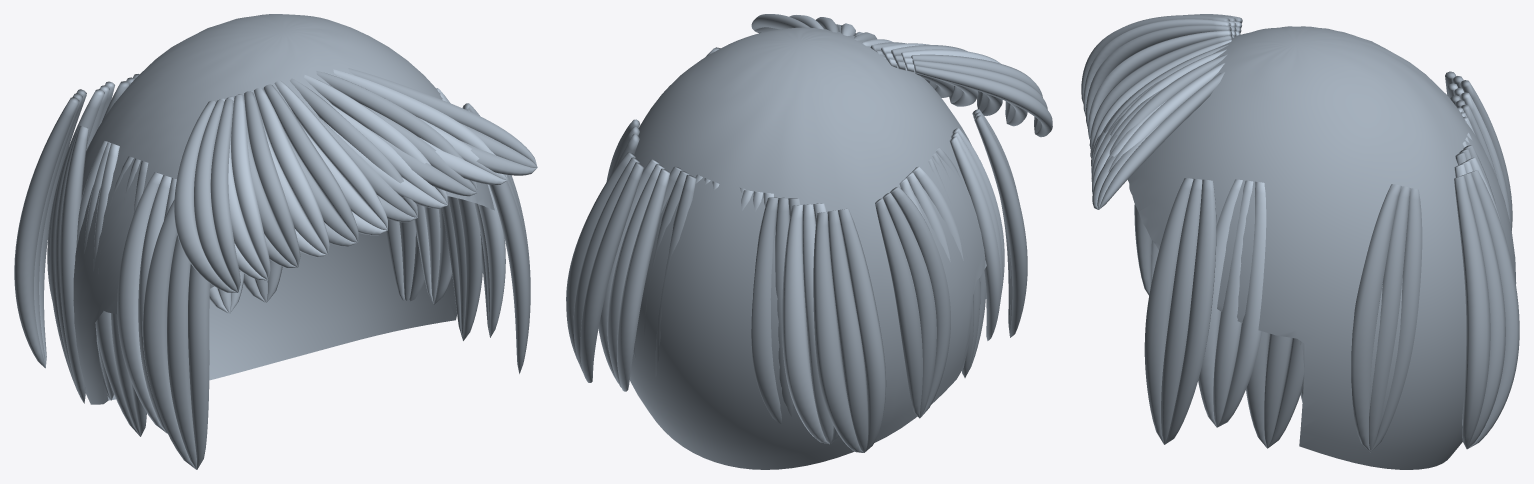
3 renders of one model, left to right at view 1: azimuth 30°, elevation 25°; view 2: azimuth 150°, elevation 25°; view 3: azimuth 270°, elevation 25°, orthographic. The views are drawn at different scales.
Parts seen in each view (by area): view 1: CrownHair_male_ref17, SideHair_-1_0_Strand2, BackHair_00_Strand0, SideHair_-1_1_Strand2, SideHair_-1_0_Strand1, SideHair_-1_4_Strand0, SideHair_-1_0_Strand0, FrontHair_Sweep_00_Strand2, SideHair_1_0_Strand2, FrontHair_Sweep_00_Strand1, FrontHair_Sweep_00_Strand0, FrontHair_Sweep_01_Strand0 (+44 smaller); view 2: CrownHair_male_ref17, BackHair_00_Strand2, BackHair_01_Strand2, BackHair_00_Strand1, BackHair_00_Strand0, BackHair_02_Strand2, BackHair_07_Strand0, SideHair_-1_4_Strand2, BackHair_08_Strand0, SideHair_-1_0_Strand2, SideHair_-1_4_Strand0, SideHair_-1_4_Strand1 (+21 smaller); view 3: CrownHair_male_ref17, BackHair_08_Strand2, SideHair_1_4_Strand2, SideHair_1_0_Strand0, SideHair_1_0_Strand2, SideHair_1_0_Strand1, SideHair_1_4_Strand1, SideHair_1_4_Strand0, SideHair_1_1_Strand0, BackHair_08_Strand1, BackHair_08_Strand0, SideHair_1_1_Strand1 (+19 smaller).
Boxes of the visible parts, x1,y1,x2,y2 form: CrownHair_male_ref17: [73, 14, 494, 404]; SideHair_-1_0_Strand2: [142, 200, 196, 469]; BackHair_00_Strand0: [14, 97, 79, 368]; SideHair_-1_1_Strand2: [117, 172, 166, 433]; SideHair_-1_0_Strand1: [167, 235, 196, 469]; SideHair_-1_4_Strand0: [60, 126, 88, 403]; SideHair_-1_0_Strand0: [188, 264, 209, 469]; FrontHair_Sweep_00_Strand2: [174, 100, 237, 292]; SideHair_1_0_Strand2: [489, 181, 530, 373]; FrontHair_Sweep_00_Strand1: [194, 99, 238, 292]; FrontHair_Sweep_00_Strand0: [210, 98, 240, 292]; FrontHair_Sweep_01_Strand0: [231, 95, 270, 279]; CrownHair_male_ref17: [630, 27, 986, 469]; BackHair_00_Strand2: [813, 211, 863, 452]; BackHair_01_Strand2: [782, 205, 829, 444]; BackHair_00_Strand1: [827, 210, 868, 452]; BackHair_00_Strand0: [838, 208, 886, 452]; BackHair_02_Strand2: [751, 197, 781, 423]; BackHair_07_Strand0: [617, 168, 669, 391]; SideHair_-1_4_Strand2: [875, 198, 922, 418]; BackHair_08_Strand0: [580, 162, 643, 382]; SideHair_-1_0_Strand2: [974, 115, 1027, 337]; SideHair_-1_4_Strand0: [890, 186, 950, 417]; SideHair_-1_4_Strand1: [882, 192, 936, 417]; CrownHair_male_ref17: [1128, 26, 1516, 469]; BackHair_08_Strand2: [1454, 175, 1490, 448]; SideHair_1_4_Strand2: [1351, 184, 1400, 452]; SideHair_1_0_Strand0: [1164, 179, 1216, 444]; SideHair_1_0_Strand2: [1144, 178, 1193, 443]; SideHair_1_0_Strand1: [1161, 179, 1202, 444]; SideHair_1_4_Strand1: [1369, 186, 1409, 451]; SideHair_1_4_Strand0: [1371, 188, 1422, 451]; SideHair_1_1_Strand0: [1217, 181, 1266, 427]; BackHair_08_Strand1: [1461, 173, 1505, 448]; BackHair_08_Strand0: [1468, 170, 1519, 448]; SideHair_1_1_Strand1: [1213, 180, 1253, 427].
Bounding box in the file's own units: 0.7251 × 0.7341 × 0.7341.
